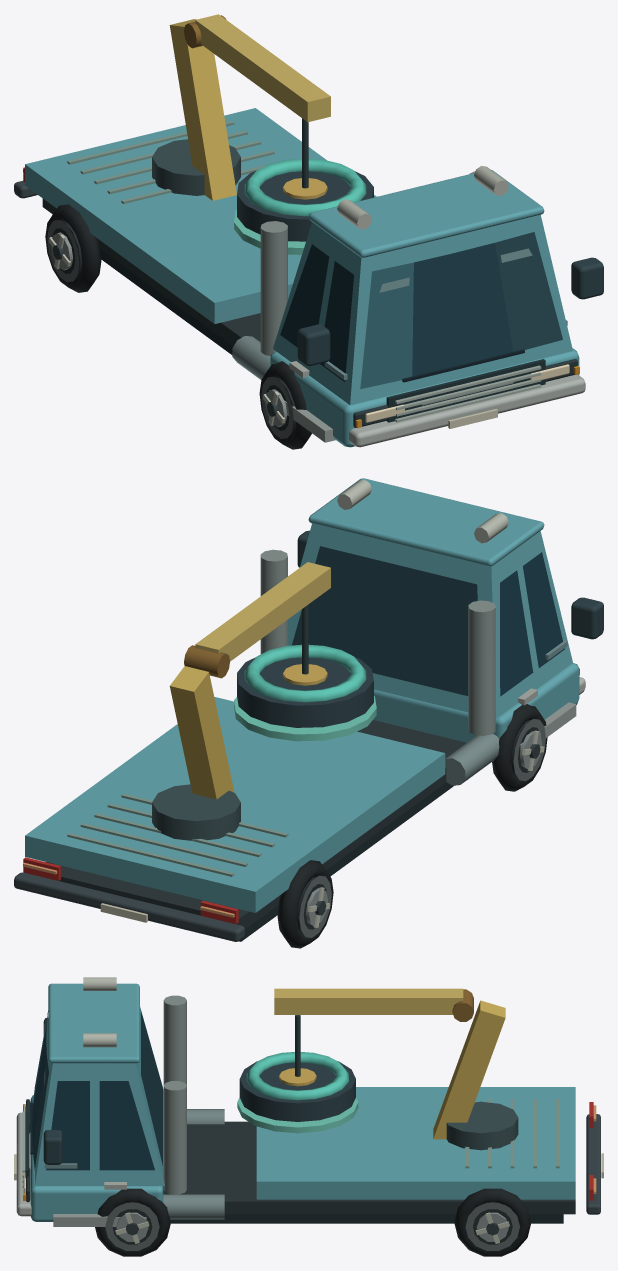
The model's file is magnet.glb.
The picture shows the model from 3 angles, top to bottom: view 1: azimuth 30°, elevation 25°; view 2: azimuth 150°, elevation 25°; view 3: azimuth 270°, elevation 25°; orthographic projection. The views are drawn at different scales.
Parts seen in each view (by area): view 1: magnet_body; view 2: magnet_body; view 3: magnet_body.
Boxes of the visible parts, bbox=[...] form: magnet_body: bbox=[14, 14, 603, 449]; magnet_body: bbox=[14, 478, 603, 948]; magnet_body: bbox=[14, 977, 603, 1256].
Bounding box in the file's own units: 2.95 × 2.42 × 5.99.
